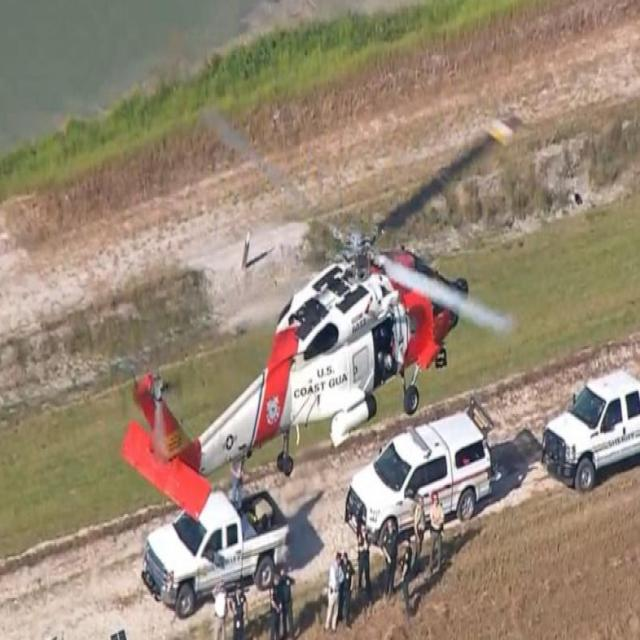helicopter: (114, 69, 539, 531)
